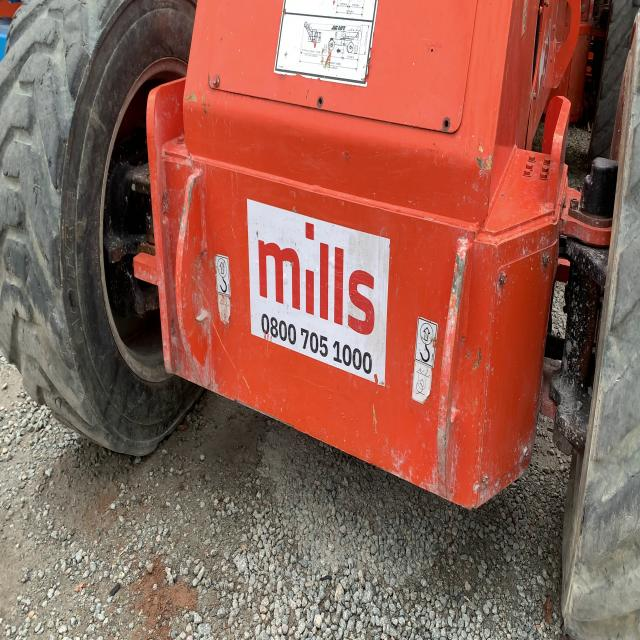Adesivos: (245, 194, 392, 390)
